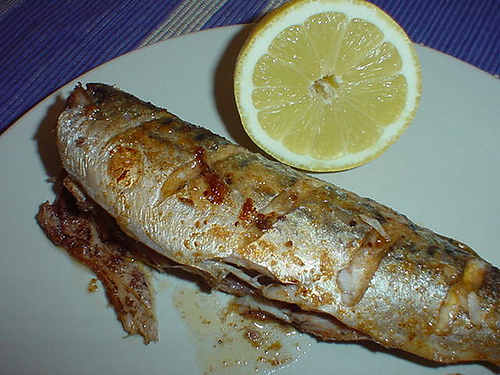fish: (54, 81, 498, 367)
